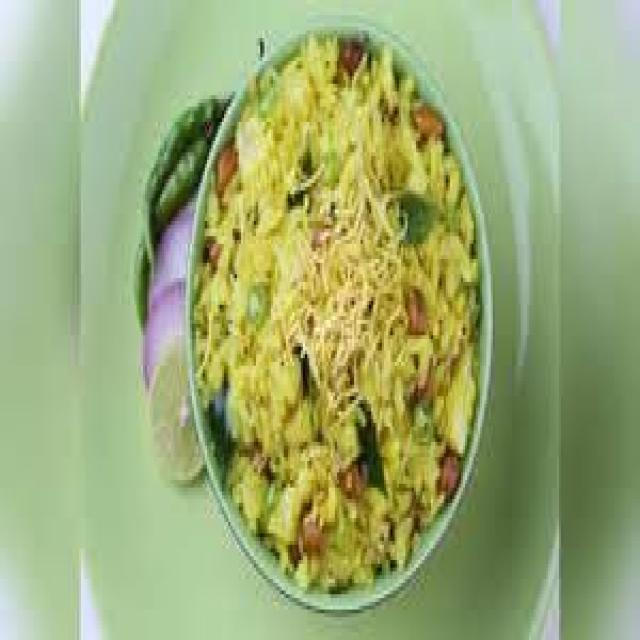POHA: (195, 39, 482, 575)
